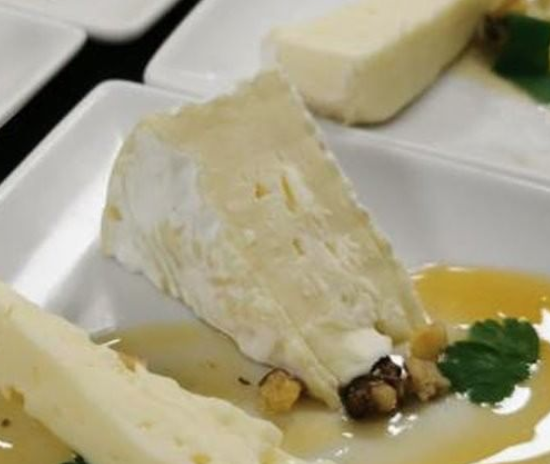camembert: (99, 67, 443, 406)
